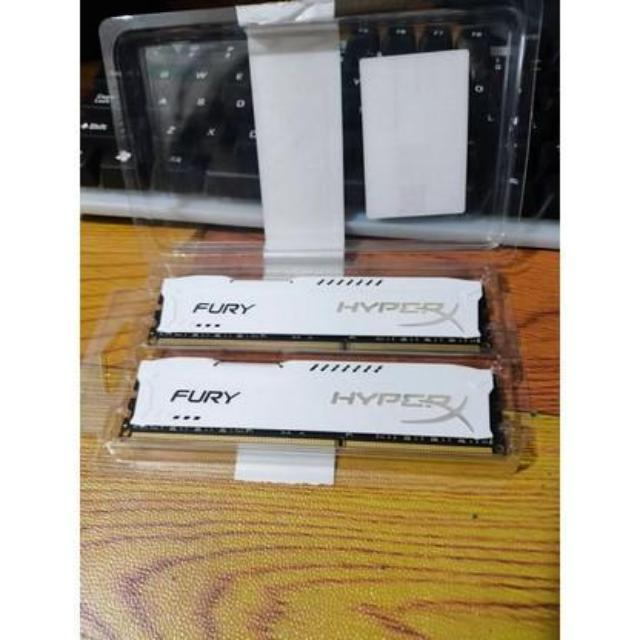RAM: (116, 356, 504, 462), (144, 270, 496, 361)
